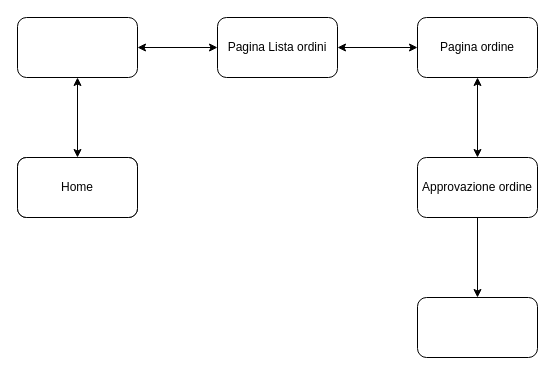
The diagram is 555 pixels wide and 375 high, and some of its shapes have lost their labels. The shapes that lost their labels are listed below. From the top down, each one's box as (x1, y1, x2, y2) in pixels, then its label:
(16, 16, 138, 78): Dashboard
(416, 296, 538, 358): Immissione data di ritiro
